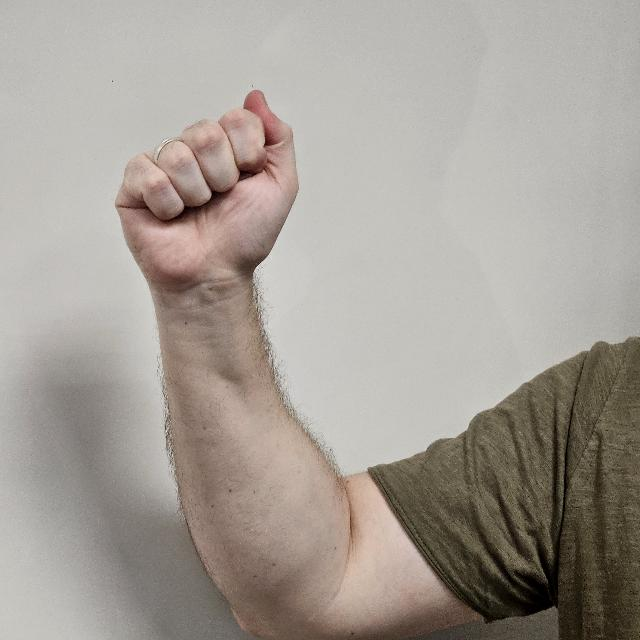Quadro: (120, 92, 298, 304)
